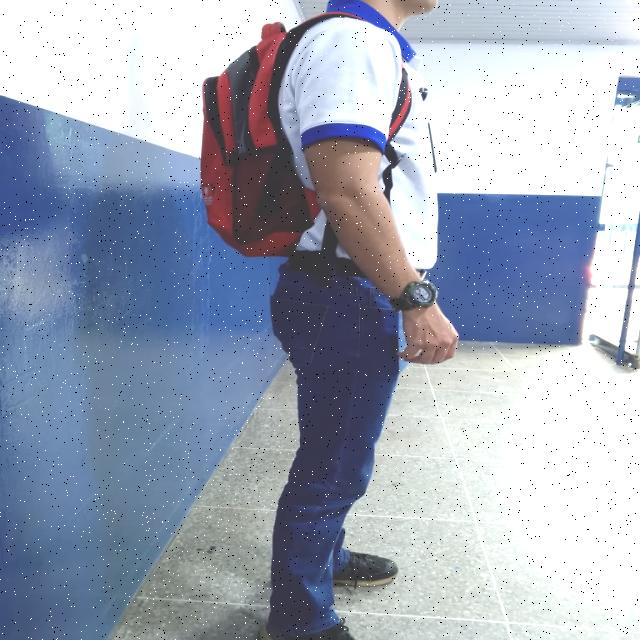pantalon_oscuro: (272, 261, 421, 633)
uniforme_superior: (278, 0, 437, 269)
